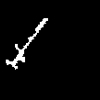double_crochet: (6, 18, 47, 68)
